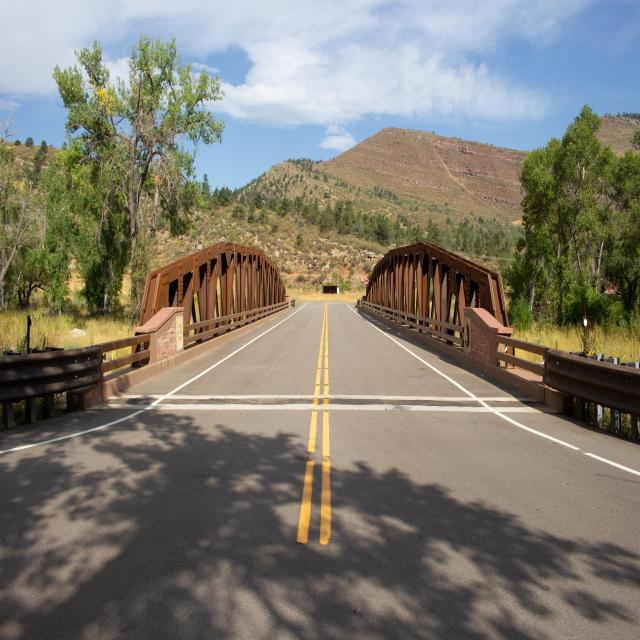palisade: (134, 236, 299, 357), (359, 236, 517, 362)
